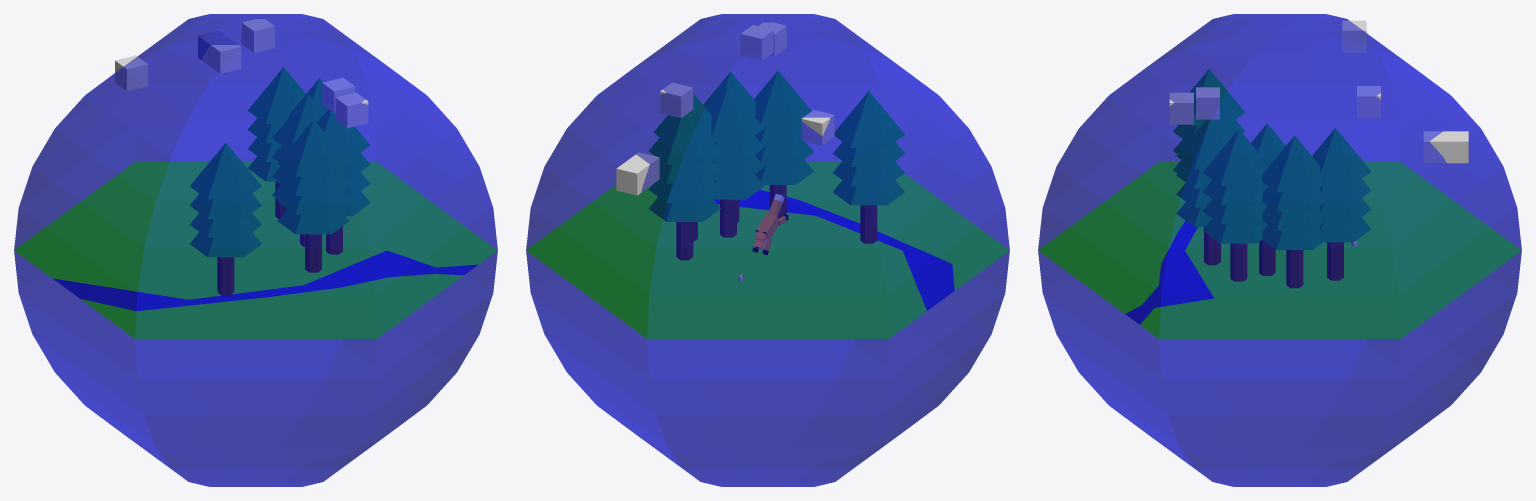
The model's file is blenderScene_a-frame_version.glb.
3 renders of one model, left to right at view 1: azimuth 30°, elevation 25°; view 2: azimuth 150°, elevation 25°; view 3: azimuth 270°, elevation 25°, orthographic.
Visible parts, largest first — view 1: Sphere, Circle.001, Cylinder.005, Cylinder.004, Circle, Cylinder.002, Cylinder, Cylinder.003, Cube.004, Cube.002, Cube.003, Cube.001 (+1 smaller); view 2: Sphere, Circle.001, Cylinder.005, Cylinder.002, Cylinder.004, Cylinder.003, Circle, Cube.003, Cube.002, Cube.005, Cube, Cube.008 (+3 smaller); view 3: Sphere, Circle.001, Cylinder.001, Cylinder, Cylinder.002, Cylinder.004, Circle, Cylinder.005, Cylinder.003, Cube.003, Cube.004, Cube (+3 smaller).
Boxes of the visible parts, x1,y1,x2,y2 form: Sphere: (14, 14, 497, 486); Circle.001: (14, 162, 497, 338); Cylinder.005: (190, 143, 261, 295); Cylinder.004: (277, 120, 349, 272); Circle: (54, 251, 477, 310); Cylinder.002: (248, 67, 305, 218); Cylinder: (317, 109, 370, 254); Cylinder.003: (272, 94, 323, 246); Cube.004: (335, 92, 368, 127); Cube.002: (241, 17, 274, 52); Cube.003: (115, 55, 147, 90); Cube.001: (210, 40, 241, 73); Sphere: (526, 14, 1009, 486); Circle.001: (526, 162, 1009, 338); Cylinder.005: (833, 91, 904, 243); Cylinder.002: (649, 113, 720, 260); Cylinder.004: (754, 70, 813, 218); Cylinder.003: (707, 85, 764, 237); Circle: (714, 190, 954, 310); Cube.003: (801, 110, 834, 145); Cube.002: (660, 82, 693, 117); Cube.005: (740, 25, 773, 60); Cube: (616, 160, 649, 195); Cube.008: (752, 194, 788, 254); Sphere: (1038, 14, 1521, 486); Circle.001: (1038, 162, 1521, 338); Cylinder.001: (1262, 135, 1322, 288); Cylinder: (1203, 129, 1262, 281); Cylinder.002: (1312, 128, 1371, 280); Cylinder.004: (1176, 119, 1232, 265); Circle: (1125, 221, 1213, 324); Cylinder.005: (1173, 69, 1244, 173); Cylinder.003: (1251, 123, 1285, 275); Cube.003: (1342, 20, 1366, 52); Cube.004: (1169, 92, 1193, 124); Cube: (1444, 131, 1468, 163).
Bounding box in the file's own units: 34.64 × 40 × 40.
